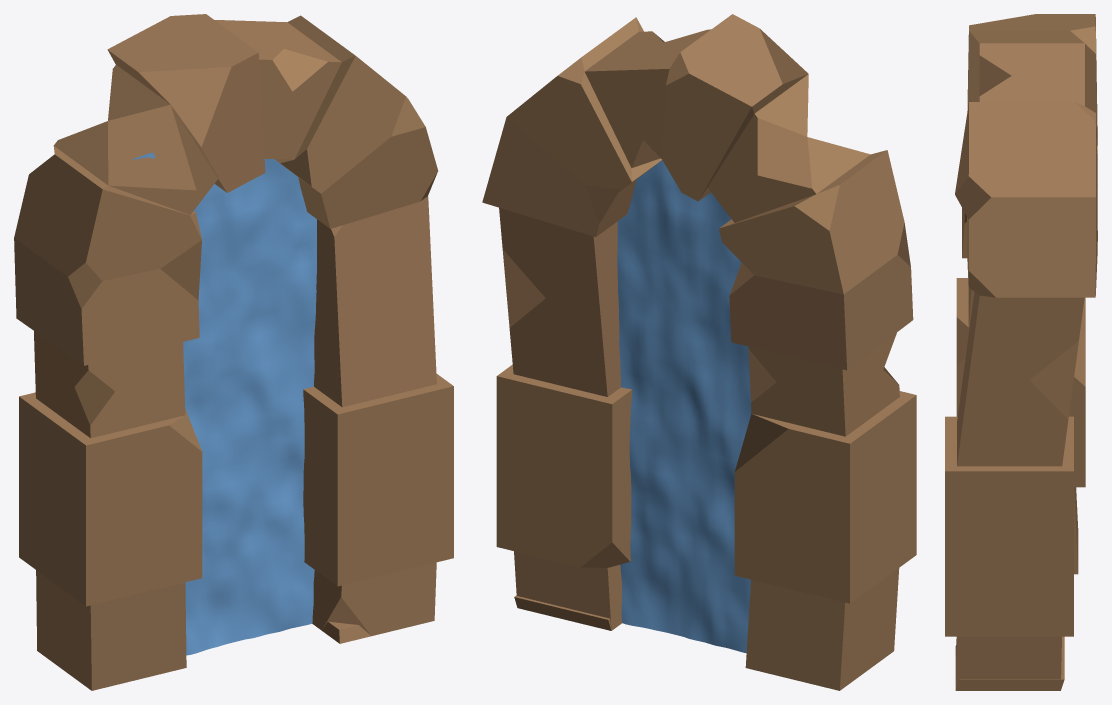
The model's file is Portal.fbx.
The picture shows the model from 3 angles, left to right: view 1: azimuth 30°, elevation 25°; view 2: azimuth 150°, elevation 25°; view 3: azimuth 270°, elevation 25°; orthographic projection. The views are drawn at different scales.
Parts seen in each view (by area): view 1: Plane, Plane.005; view 2: Plane, Plane.001; view 3: Plane.
Part boxes in pixels (x1,y1,x2,y2): Plane: (14, 14, 453, 690); Plane.005: (132, 152, 316, 655); Plane: (482, 14, 916, 690); Plane.001: (617, 160, 751, 653); Plane: (945, 14, 1097, 690).
Bounding box in the file's own units: 314 × 497 × 118.
